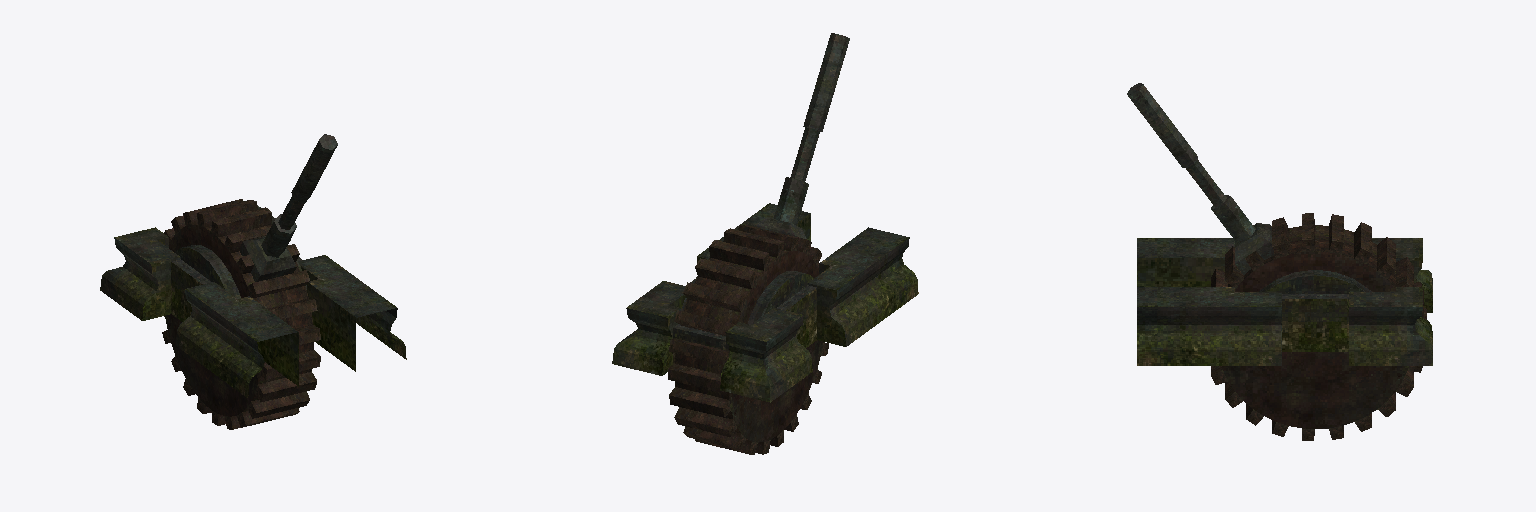
The picture shows the model from 3 angles: view 1: azimuth 30°, elevation 25°; view 2: azimuth 150°, elevation 25°; view 3: azimuth 270°, elevation 25°; orthographic projection.
Visible parts, largest first — view 1: mesh0; view 2: mesh0; view 3: mesh0.
Boxes of the visible parts, <box> form: mesh0: <box>100,134,406,429</box>; mesh0: <box>612,33,918,454</box>; mesh0: <box>1127,83,1432,440</box>.
Bounding box in the file's own units: 0.8201 × 1.7 × 1.38.
1 materials, 1 textured.